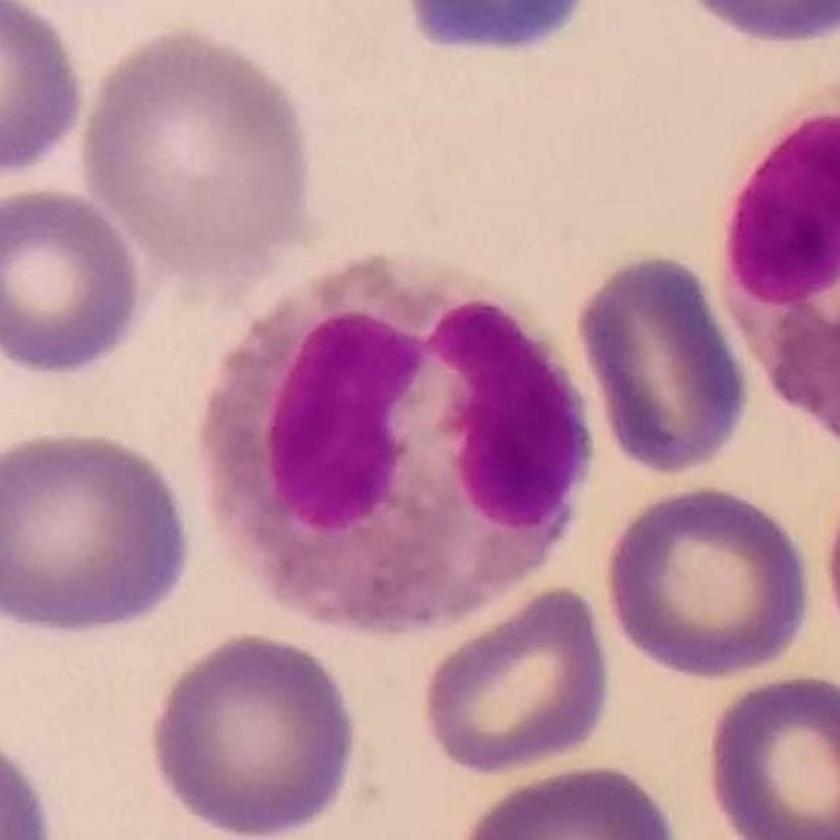eosinophil: (195, 243, 592, 633)
